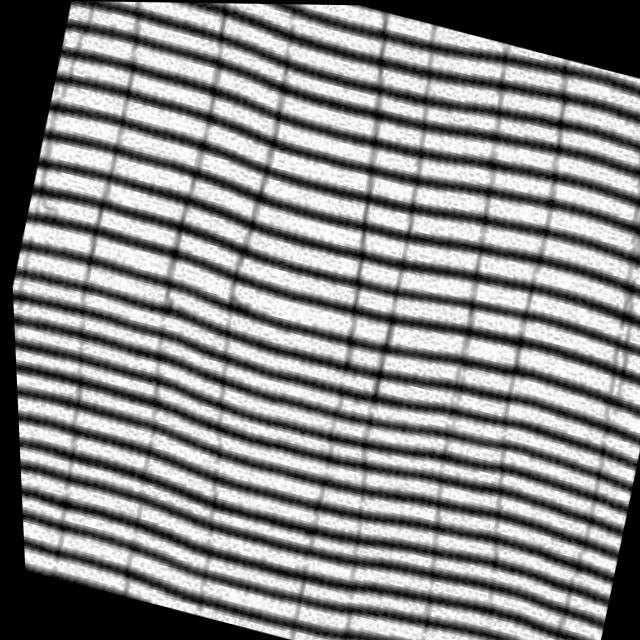Stitch: (227, 77, 488, 564)
